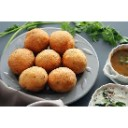bonda: (17, 67, 48, 91), (63, 49, 89, 73), (25, 29, 51, 53)
